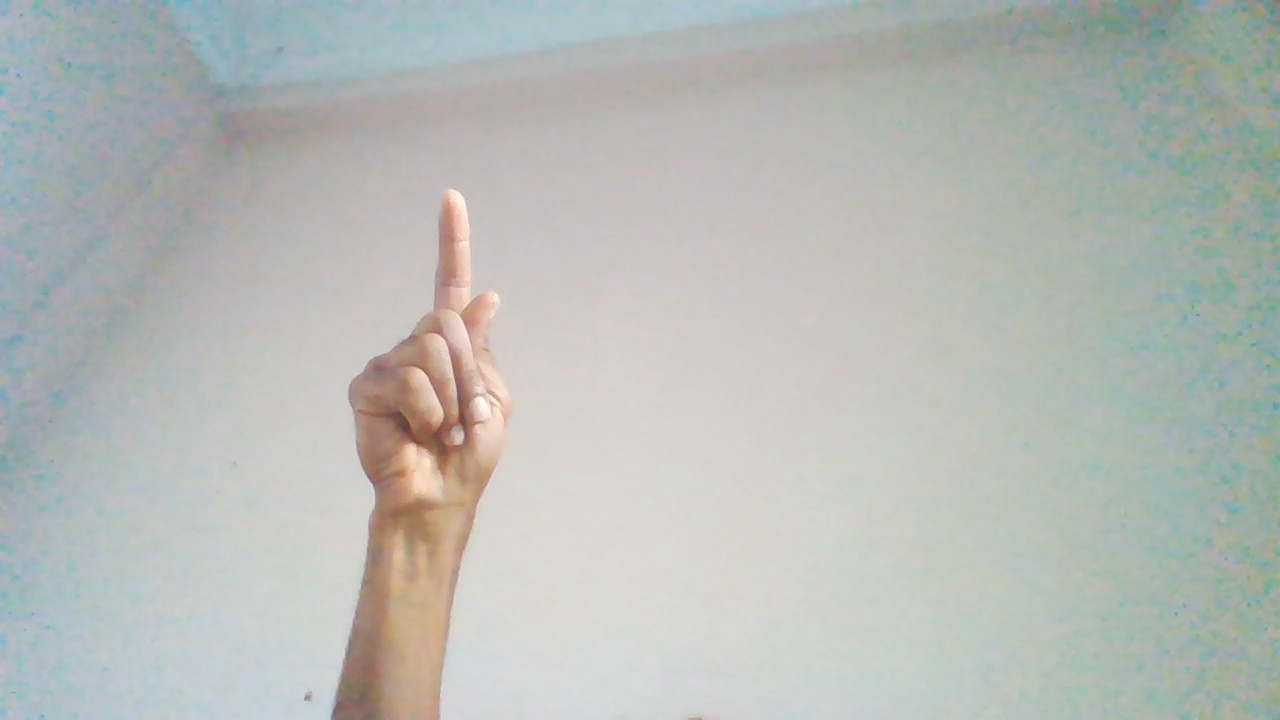ne: (351, 188, 516, 614)
